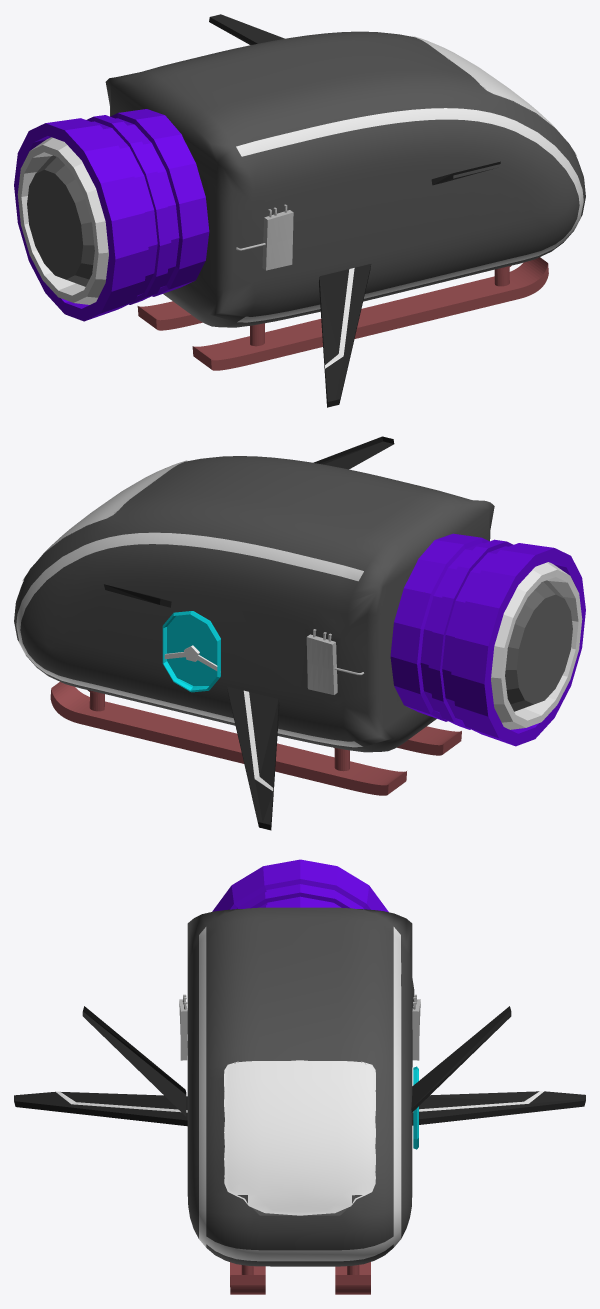
File: mouse.dae
3 views of the same model, one above another, from view 1: azimuth 30°, elevation 25°; view 2: azimuth 150°, elevation 25°; view 3: azimuth 270°, elevation 25° (orthographic). The views are drawn at different scales.
Visible parts, largest first — view 1: Body, EngineRing.001, LandingGear, CombustionLimiter, JetEngine, Stabilizers.004, ElectricalBox2, Windshield, Stabilizers; view 2: Body, EngineRing.001, LandingGear, CombustionLimiter, JetEngine, Stabilizers.001, Door, ElectricalBox, Windshield, Stabilizers.003, DoorFrame; view 3: Body, Windshield, EngineRing.001, Stabilizers.004, Stabilizers.001, LandingGear, Stabilizers.003, Stabilizers.
Part boxes in pixels (x1,y1,x2,y2): Body: [105, 31, 585, 327]; EngineRing.001: [14, 109, 209, 321]; LandingGear: [137, 257, 548, 370]; CombustionLimiter: [27, 155, 94, 286]; JetEngine: [17, 137, 108, 304]; Stabilizers.004: [319, 264, 371, 407]; ElectricalBox2: [236, 204, 293, 270]; Windshield: [413, 36, 577, 156]; Stabilizers: [209, 14, 284, 45]; Body: [14, 456, 494, 752]; EngineRing.001: [390, 533, 585, 746]; LandingGear: [50, 682, 461, 795]; CombustionLimiter: [505, 580, 572, 711]; JetEngine: [491, 562, 582, 729]; Stabilizers.001: [227, 686, 279, 830]; Door: [164, 614, 217, 685]; ElectricalBox: [306, 629, 364, 694]; Windshield: [22, 460, 187, 580]; Stabilizers.003: [313, 436, 394, 469]; DoorFrame: [162, 611, 220, 692]; Body: [187, 907, 414, 1266]; Windshield: [224, 1060, 375, 1215]; EngineRing.001: [212, 859, 388, 912]; Stabilizers.004: [14, 1091, 187, 1126]; Stabilizers.001: [412, 1091, 585, 1125]; LandingGear: [230, 1262, 370, 1294]; Stabilizers.003: [82, 1006, 186, 1116]; Stabilizers: [411, 1006, 511, 1112].
Bounding box in the file's own units: 2.68 × 2.78 × 1.3.
